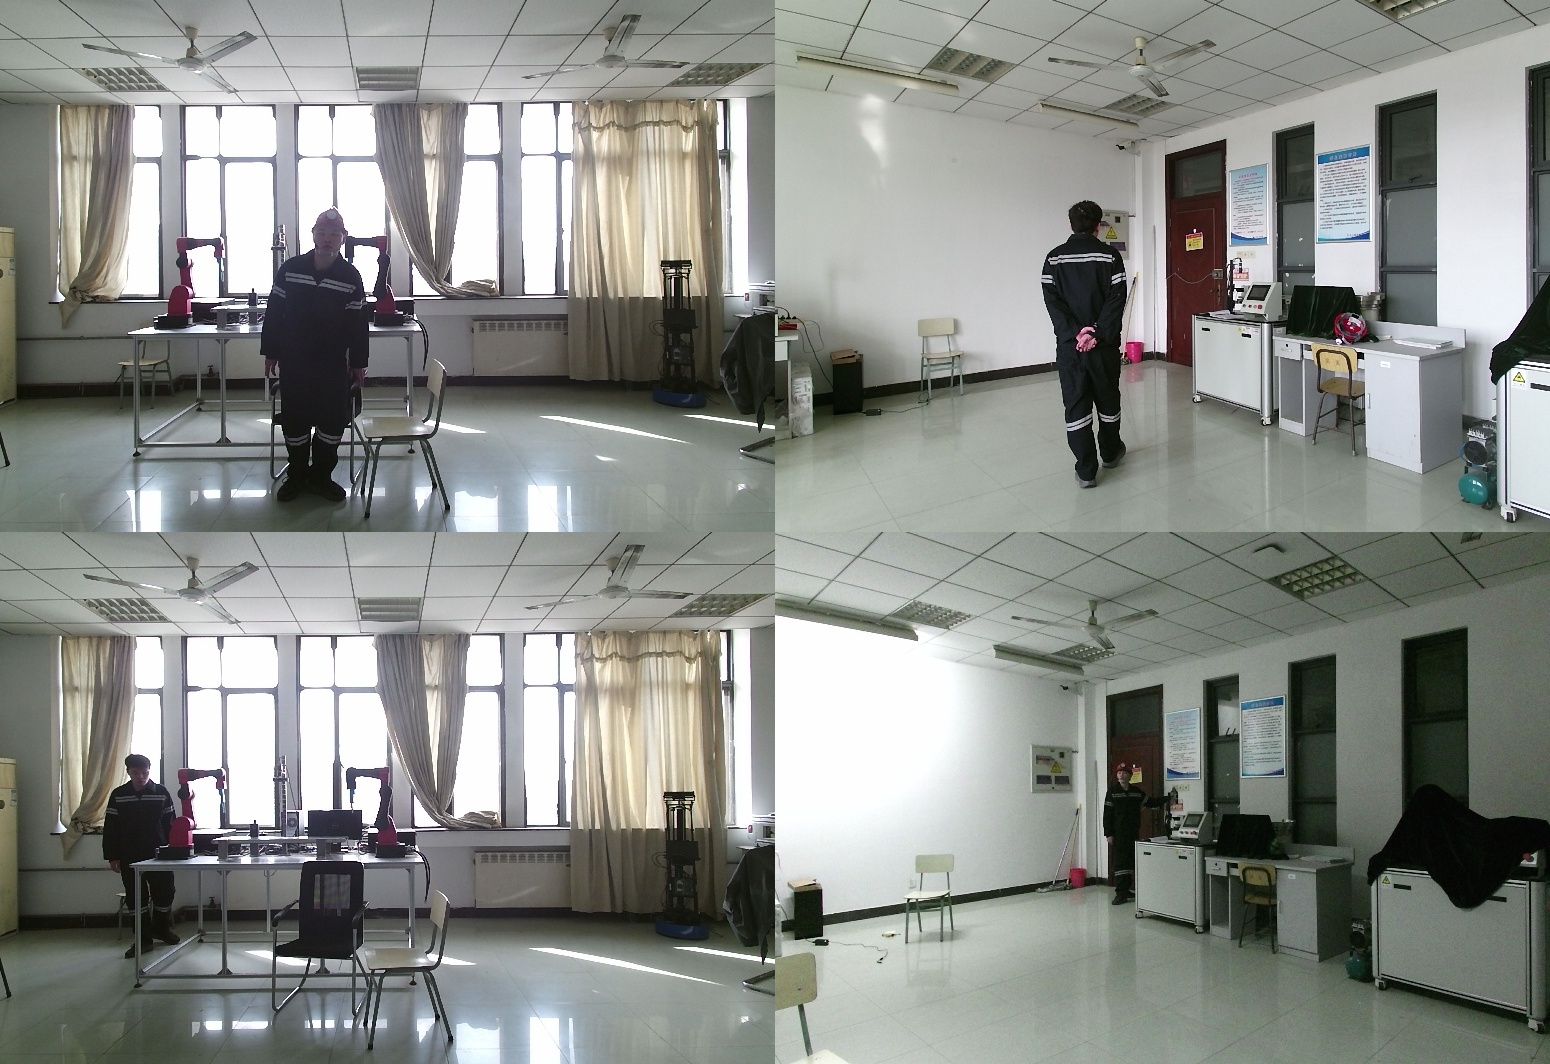person: (263, 208, 376, 501), (1034, 202, 1145, 489), (96, 754, 185, 957), (1098, 759, 1152, 908)
